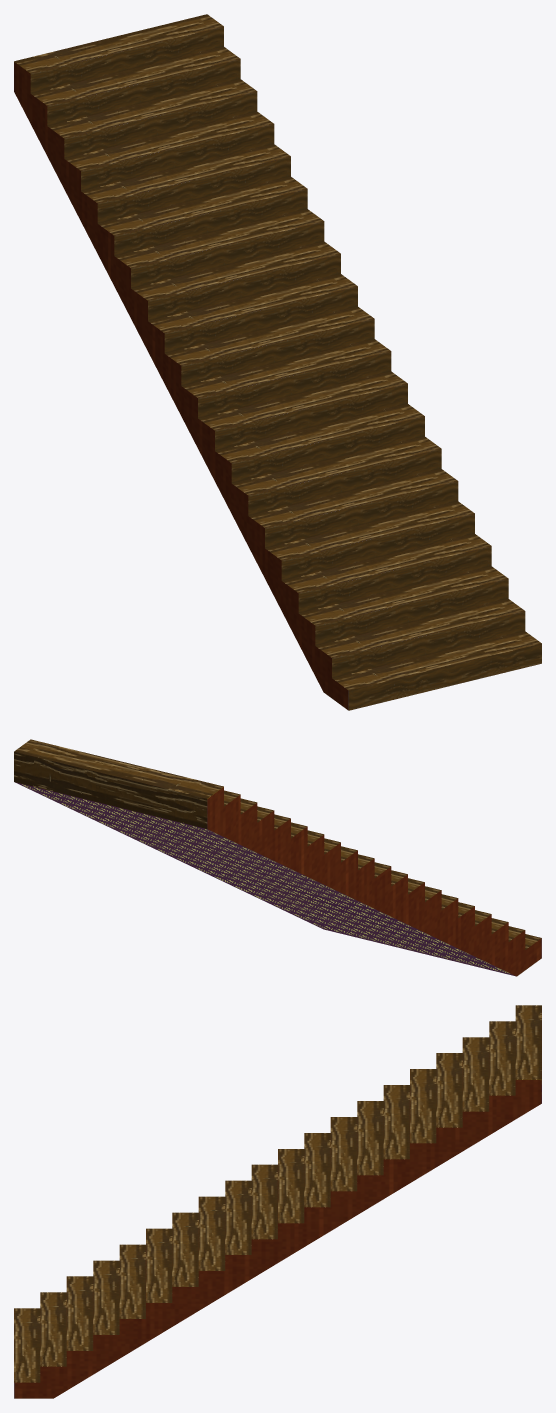
File: SM_Stairs_Straight_4m.fbx
3 renders of one model, top to bottom at view 1: azimuth 30°, elevation 25°; view 2: azimuth 150°, elevation 25°; view 3: azimuth 270°, elevation 25°, orthographic. The views are drawn at different scales.
Parts seen in each view (by area): view 1: SM_Stairs_Straight_4m; view 2: SM_Stairs_Straight_4m; view 3: SM_Stairs_Straight_4m.
Boxes of the visible parts, <box> form: SM_Stairs_Straight_4m: <box>14,14,541,710</box>; SM_Stairs_Straight_4m: <box>14,739,541,976</box>; SM_Stairs_Straight_4m: <box>14,1005,541,1398</box>.
Size of the model in its own units: 2 by 4 by 6.
